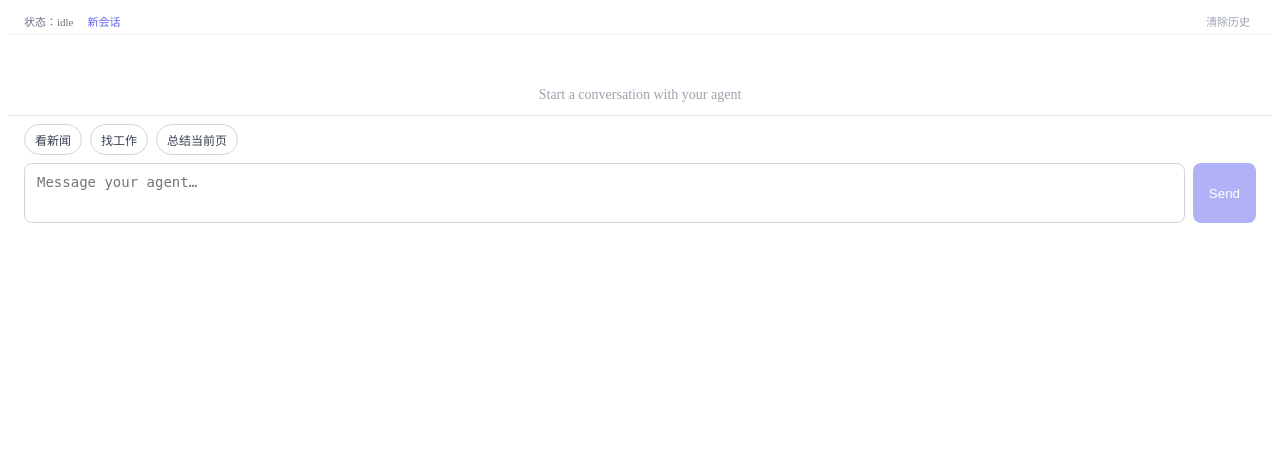
Scenario: ChatPanel provider preflight › does not send a real task and shows setup guidance when the selected provider has no API key
In the text box with placeholder "Message your agent…": (604, 193) [24,163,1185,223], type "你好"
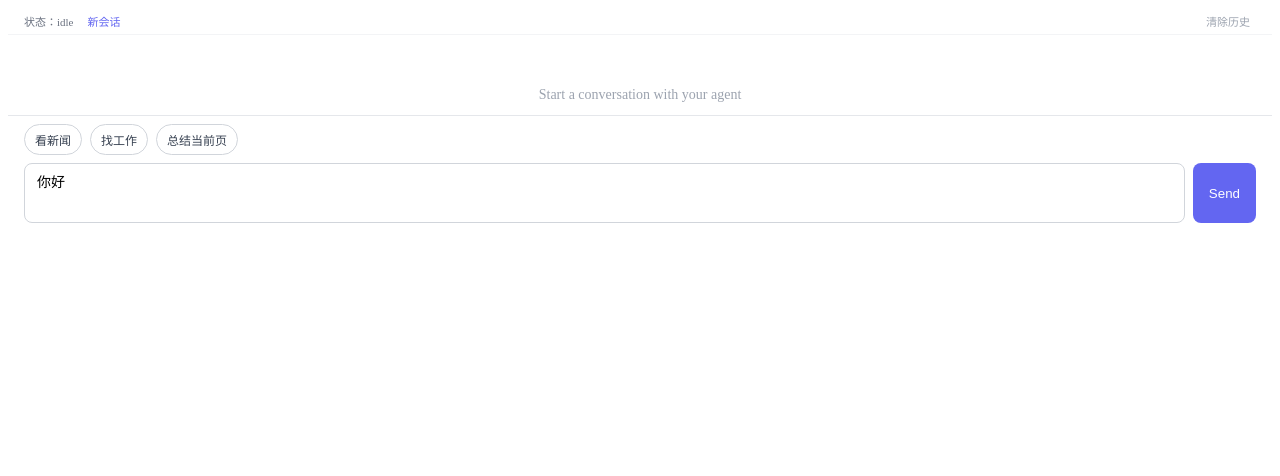
Click the button "Send": (1224, 193) [1193,163,1256,223]
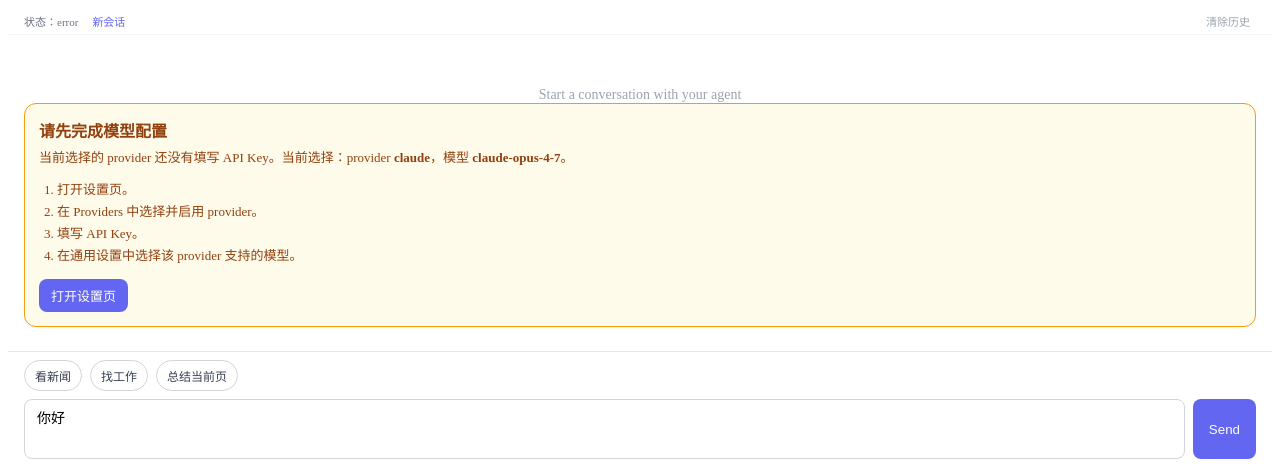
Now the text "请先完成模型配置" is shown, box [39,123,167,140]
Now the text "填写 API Key" is shown, box [39,150,282,165]
Now the text "打开设置页" is shown, box [57,182,135,197]
